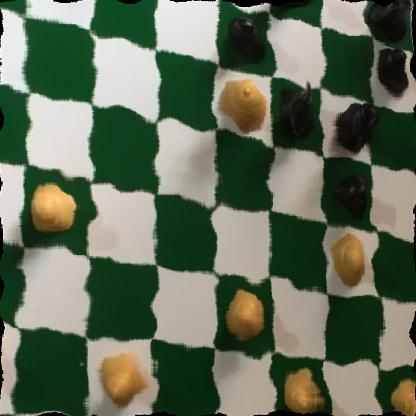black-bishop: (267, 0, 314, 15)
black-king: (327, 92, 380, 161)
black-knight: (274, 66, 311, 141)
black-pawn: (222, 4, 267, 71), (375, 36, 414, 99), (329, 164, 368, 223)
black-rook: (367, 0, 413, 51)
white-pawn: (28, 176, 83, 246), (96, 340, 147, 411), (223, 285, 269, 348), (278, 364, 323, 416), (330, 231, 369, 289), (386, 378, 416, 416), (0, 318, 6, 391)
white-queen: (219, 71, 273, 145)
